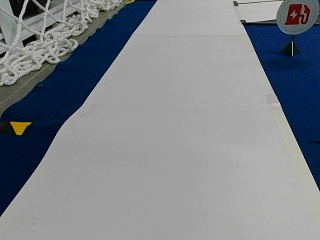battery: (275, 0, 318, 36)
